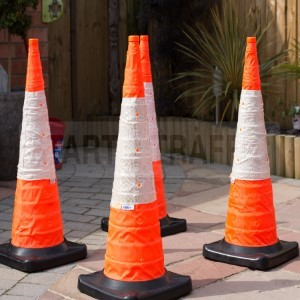traffic cone: (78, 34, 193, 300), (203, 37, 300, 270), (1, 38, 87, 273), (101, 35, 187, 239)
